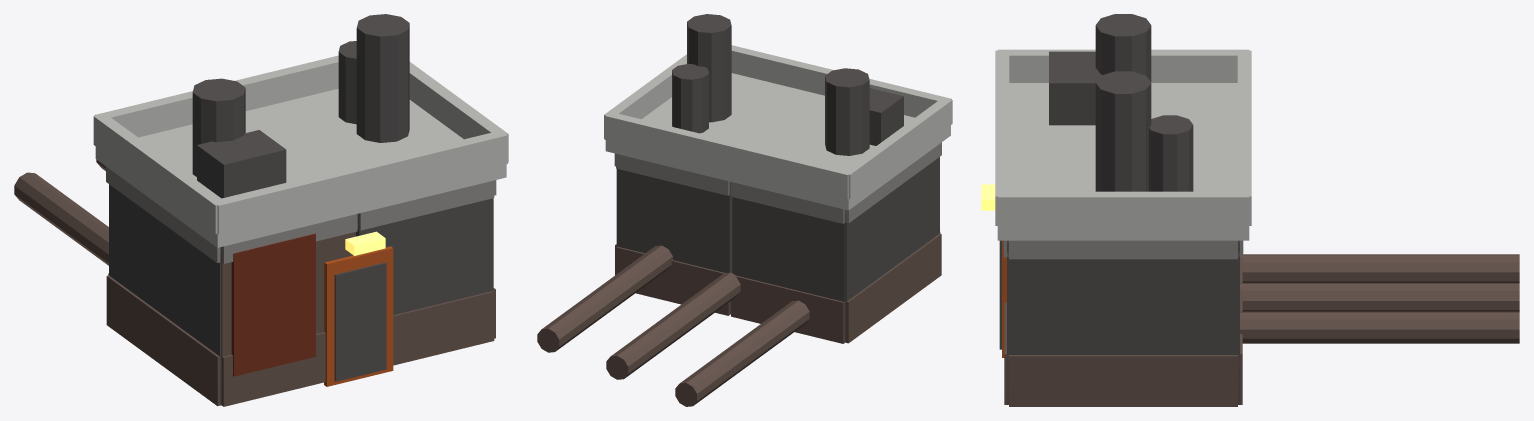
File: B_pump_station.glb
3 renders of one model, left to right at view 1: azimuth 30°, elevation 25°; view 2: azimuth 150°, elevation 25°; view 3: azimuth 270°, elevation 25°, orthographic. The views are drawn at different scales.
Visible parts, largest first — view 1: Cube.024, Cube.012, Cube.018, Cube.025, Cube.003, Cylinder.003, Cube.013, Cube.026, Cube.022, Cube.004, Cube.027, Cube.029 (+11 smaller); view 2: Cube.024, Cube.006, Cube.009, Cube.026, Cube.012, Cube.013, Cylinder.002, Cylinder.001, Cylinder, Cube.025, Cube.007, Cylinder.004 (+9 smaller); view 3: Cube.015, Cube.024, Cube.016, Cylinder.002, Cube.028, Cylinder.001, Cylinder, Cylinder.003, Cube.017, Cube.027, Cube.029, Cylinder.005 (+3 smaller).
Part boxes in pixels (box(x1,y1,x2,y2)): Cube.024: box(95, 88, 506, 247); Cube.012: box(109, 184, 221, 405); Cube.018: box(231, 233, 315, 376); Cube.025: box(212, 130, 507, 234); Cube.003: box(356, 198, 492, 314); Cylinder.003: box(356, 14, 409, 142); Cube.013: box(106, 275, 221, 406); Cube.026: box(94, 55, 338, 137); Cube.022: box(334, 262, 386, 381); Cube.004: box(393, 291, 494, 365); Cube.027: box(93, 113, 226, 233); Cube.029: box(197, 130, 286, 198); Cube.024: box(605, 73, 950, 210); Cube.006: box(732, 197, 845, 342); Cube.009: box(617, 169, 732, 314); Cube.026: box(604, 111, 848, 198); Cube.012: box(845, 157, 939, 301); Cube.013: box(845, 233, 941, 343); Cylinder.002: box(537, 245, 672, 352); Cylinder.001: box(606, 272, 740, 379); Cylinder: box(675, 300, 809, 406); Cube.025: box(731, 45, 951, 117); Cube.007: box(731, 275, 844, 343); Cylinder.004: box(825, 68, 869, 155); Cube.015: box(1009, 259, 1237, 354); Cube.024: box(997, 83, 1249, 240); Cube.016: box(1009, 355, 1237, 406); Cylinder.002: box(1240, 311, 1519, 343); Cube.028: box(997, 191, 1249, 226); Cylinder.001: box(1240, 283, 1519, 311); Cylinder: box(1242, 254, 1519, 282); Cylinder.003: box(1095, 71, 1151, 191); Cube.017: box(1009, 240, 1237, 259); Cube.027: box(997, 49, 1249, 82); Cube.029: box(1049, 51, 1102, 125); Cylinder.005: box(1149, 115, 1193, 191).
Size of the model in its own units: 7.5 by 7.1 by 11.55.
